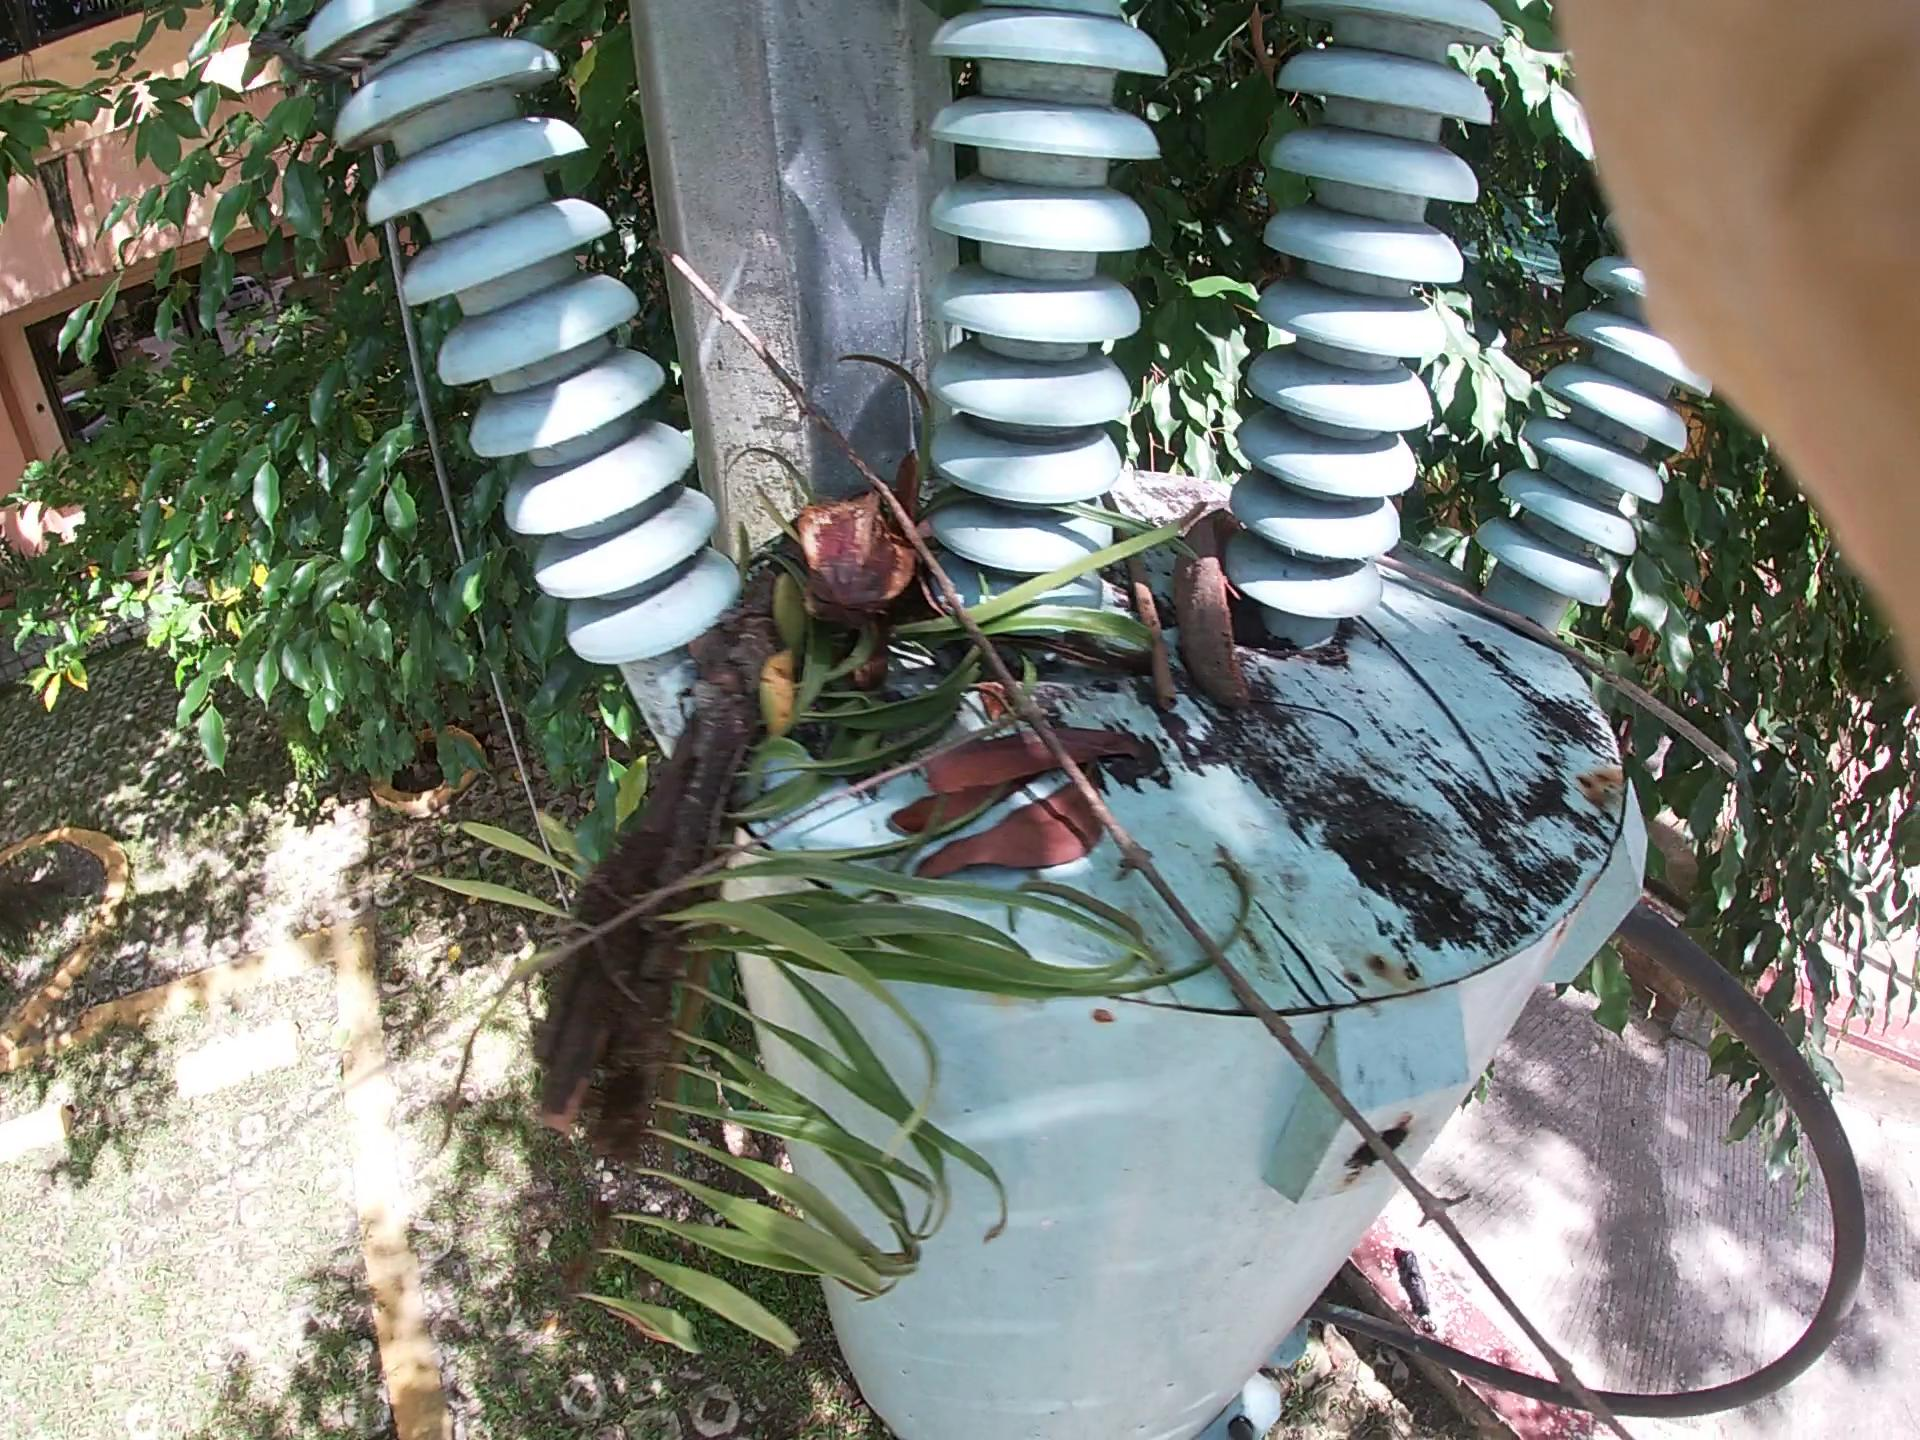branch with leaves: (570, 451, 831, 1302)
leaf: (918, 663, 1079, 930)
mahogany fruit: (714, 404, 925, 622), (1154, 293, 1253, 726)
tree branch: (739, 234, 1530, 1317), (1368, 507, 1725, 781), (1001, 309, 1208, 717)
